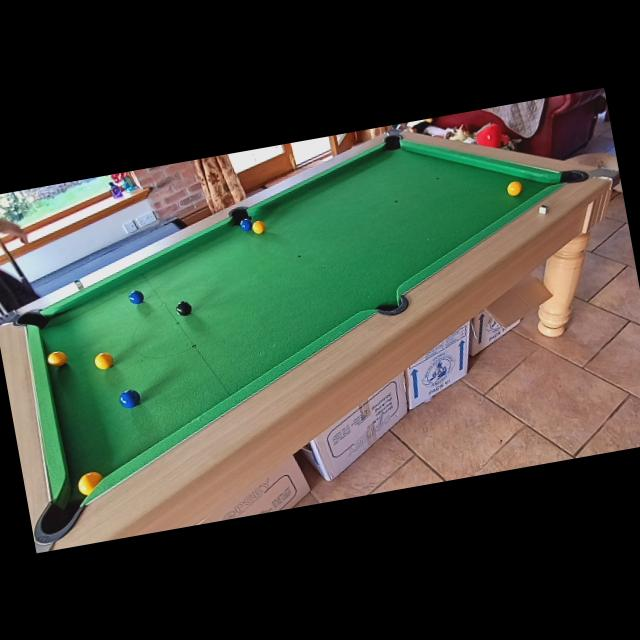Ball: (76, 470, 106, 497), (118, 388, 142, 408), (46, 348, 68, 368), (93, 350, 114, 370), (175, 298, 193, 316), (506, 180, 522, 197), (128, 288, 144, 304), (238, 217, 253, 232), (252, 219, 266, 235)
